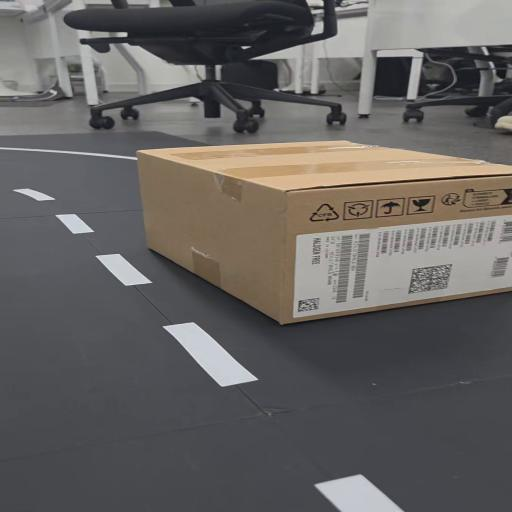Box: (137, 141, 512, 326)
